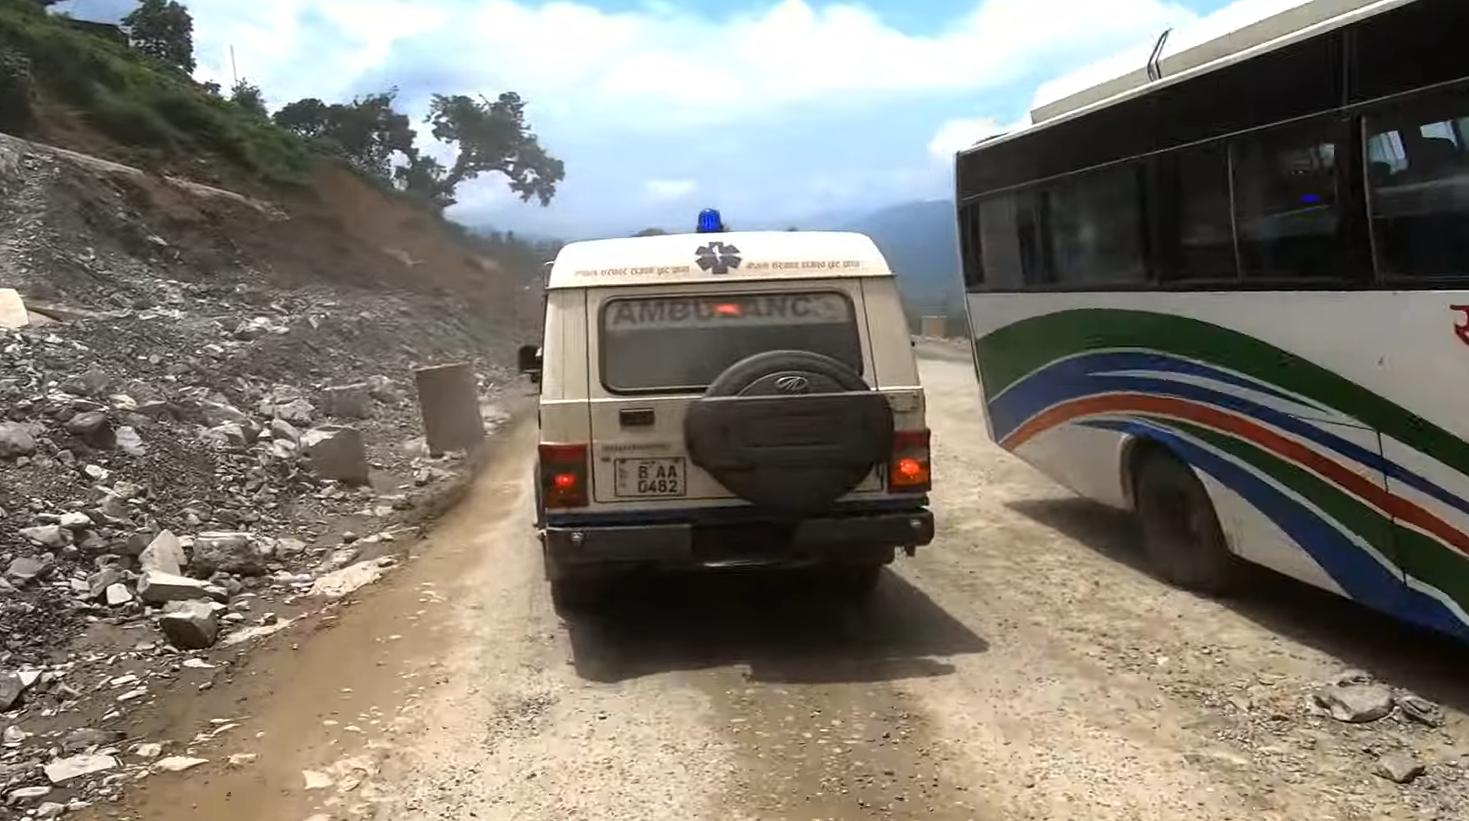ambulance: (512, 203, 952, 631)
bus: (950, 4, 1469, 672)
